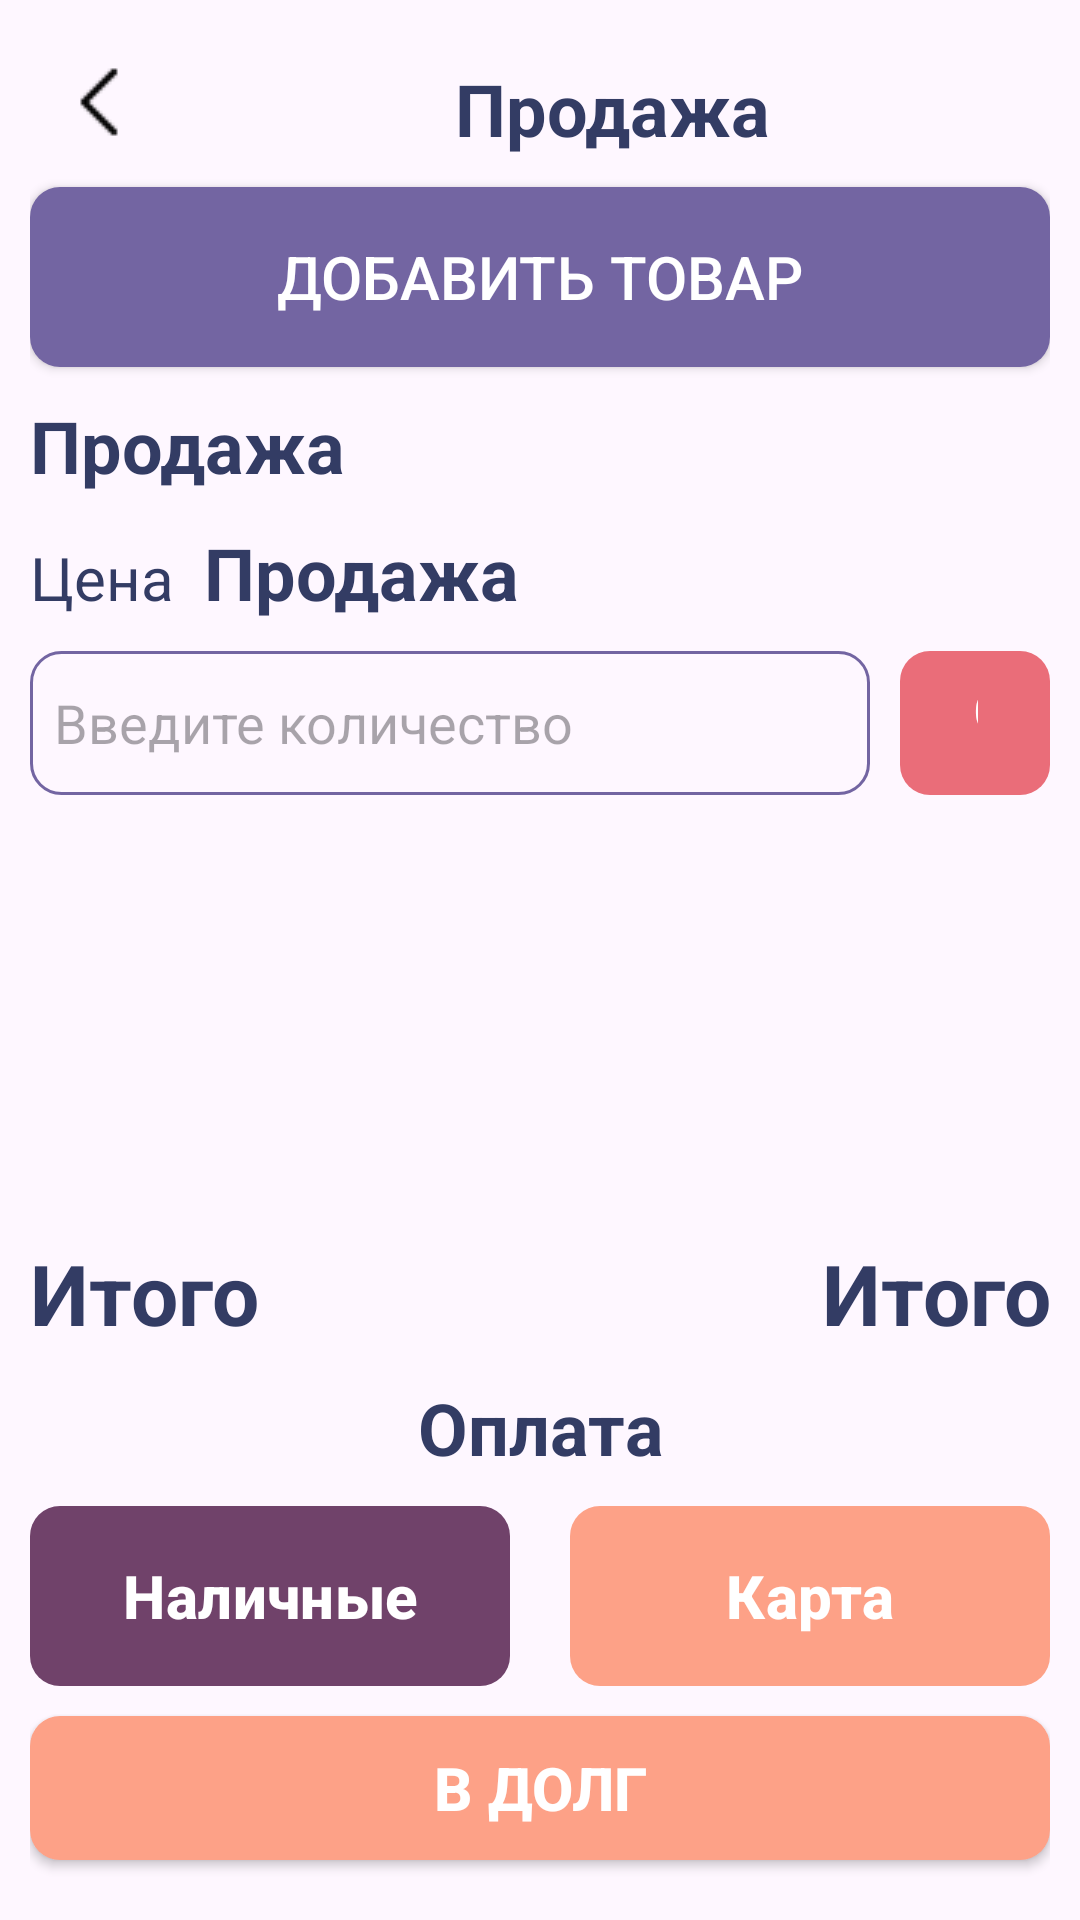

Where icons sit on this 1080 × 1920 app screen, as (x1, y1, x2, y2):
back: (80, 68, 118, 136)
